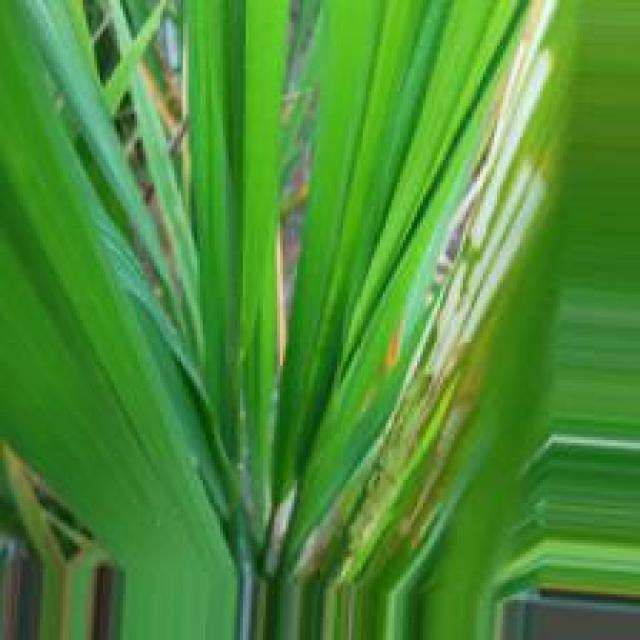Rice_Hispa: (292, 2, 569, 595)
